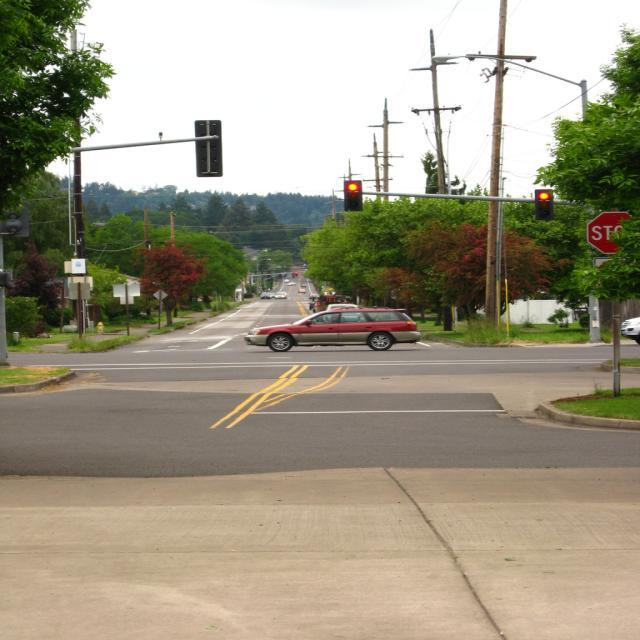obstructed_road_sign: (587, 211, 632, 255)
traffic light: (344, 181, 362, 211), (536, 190, 553, 220)
